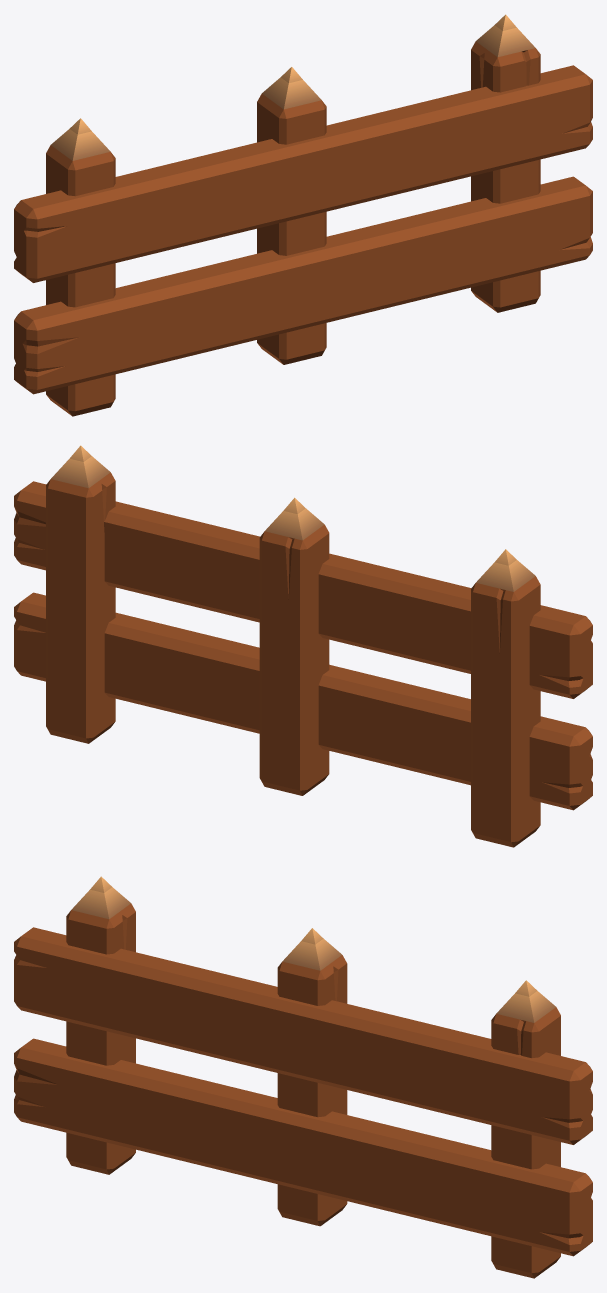
Rendered from m_dec_dung_fenceLargeB.fbx.
3 renders of one model, top to bottom at view 1: azimuth 30°, elevation 25°; view 2: azimuth 150°, elevation 25°; view 3: azimuth 330°, elevation 25°, orthographic.
Parts seen in each view (by area): view 1: m_dec_dung_fenceLargeB; view 2: m_dec_dung_fenceLargeB; view 3: m_dec_dung_fenceLargeB.
Part boxes in pixels (bbox=[...]): m_dec_dung_fenceLargeB: bbox=[14, 14, 592, 416]; m_dec_dung_fenceLargeB: bbox=[14, 445, 592, 847]; m_dec_dung_fenceLargeB: bbox=[14, 876, 592, 1278].
Bounding box in the file's own units: 8 × 3.86 × 0.837.
